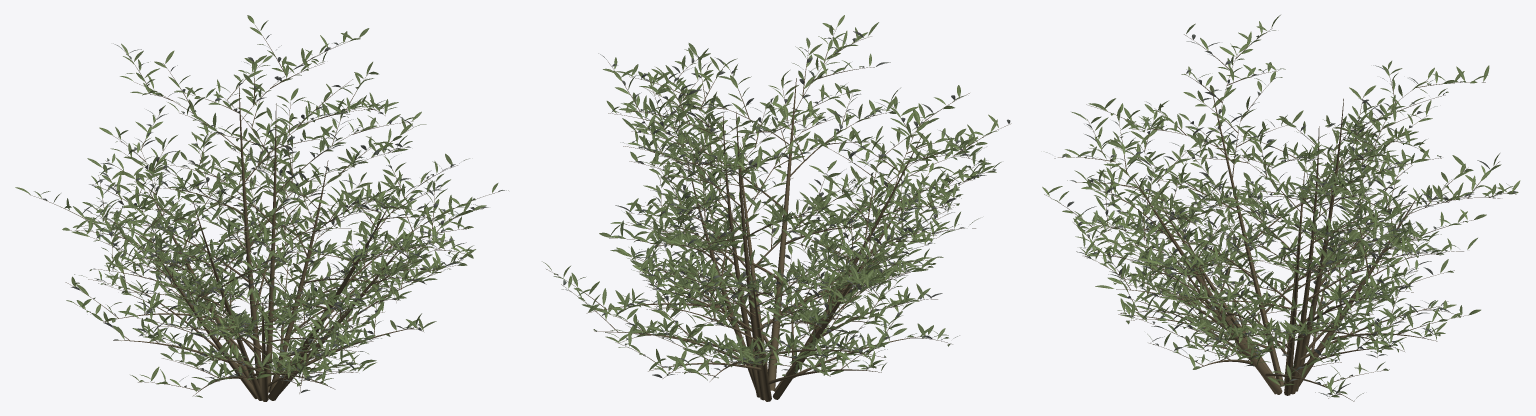
The model's file is oleaster-lod0.glb.
3 views of the same model, side by side, from view 1: azimuth 30°, elevation 25°; view 2: azimuth 150°, elevation 25°; view 3: azimuth 270°, elevation 25° (orthographic). The views are drawn at different scales.
Parts seen in each view (by area): view 1: Elaeagnus angustifolia; view 2: Elaeagnus angustifolia; view 3: Elaeagnus angustifolia.
Boxes of the visible parts, box(x1,y1,x2,y2) form: Elaeagnus angustifolia: box(15, 15, 508, 401); Elaeagnus angustifolia: box(542, 15, 1011, 401); Elaeagnus angustifolia: box(1042, 15, 1520, 401).
Bounding box in the file's own units: 1.69 × 1.4 × 1.9.
Materials: 2 (1 with a texture image).
